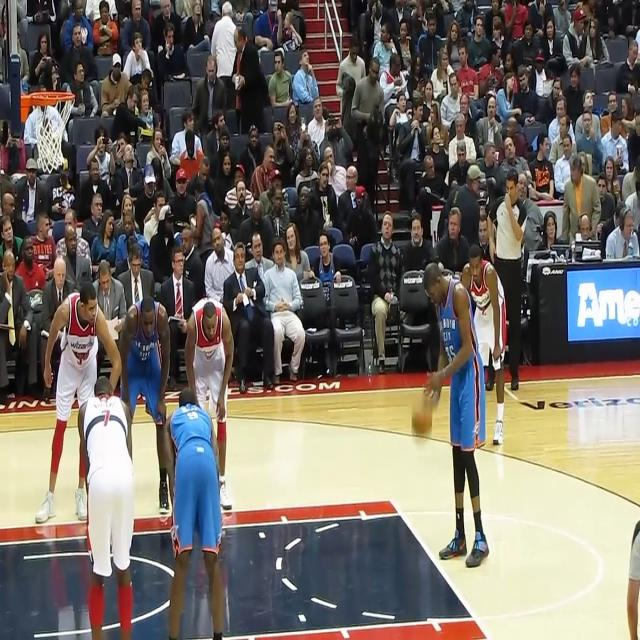ball: (410, 393, 436, 439)
